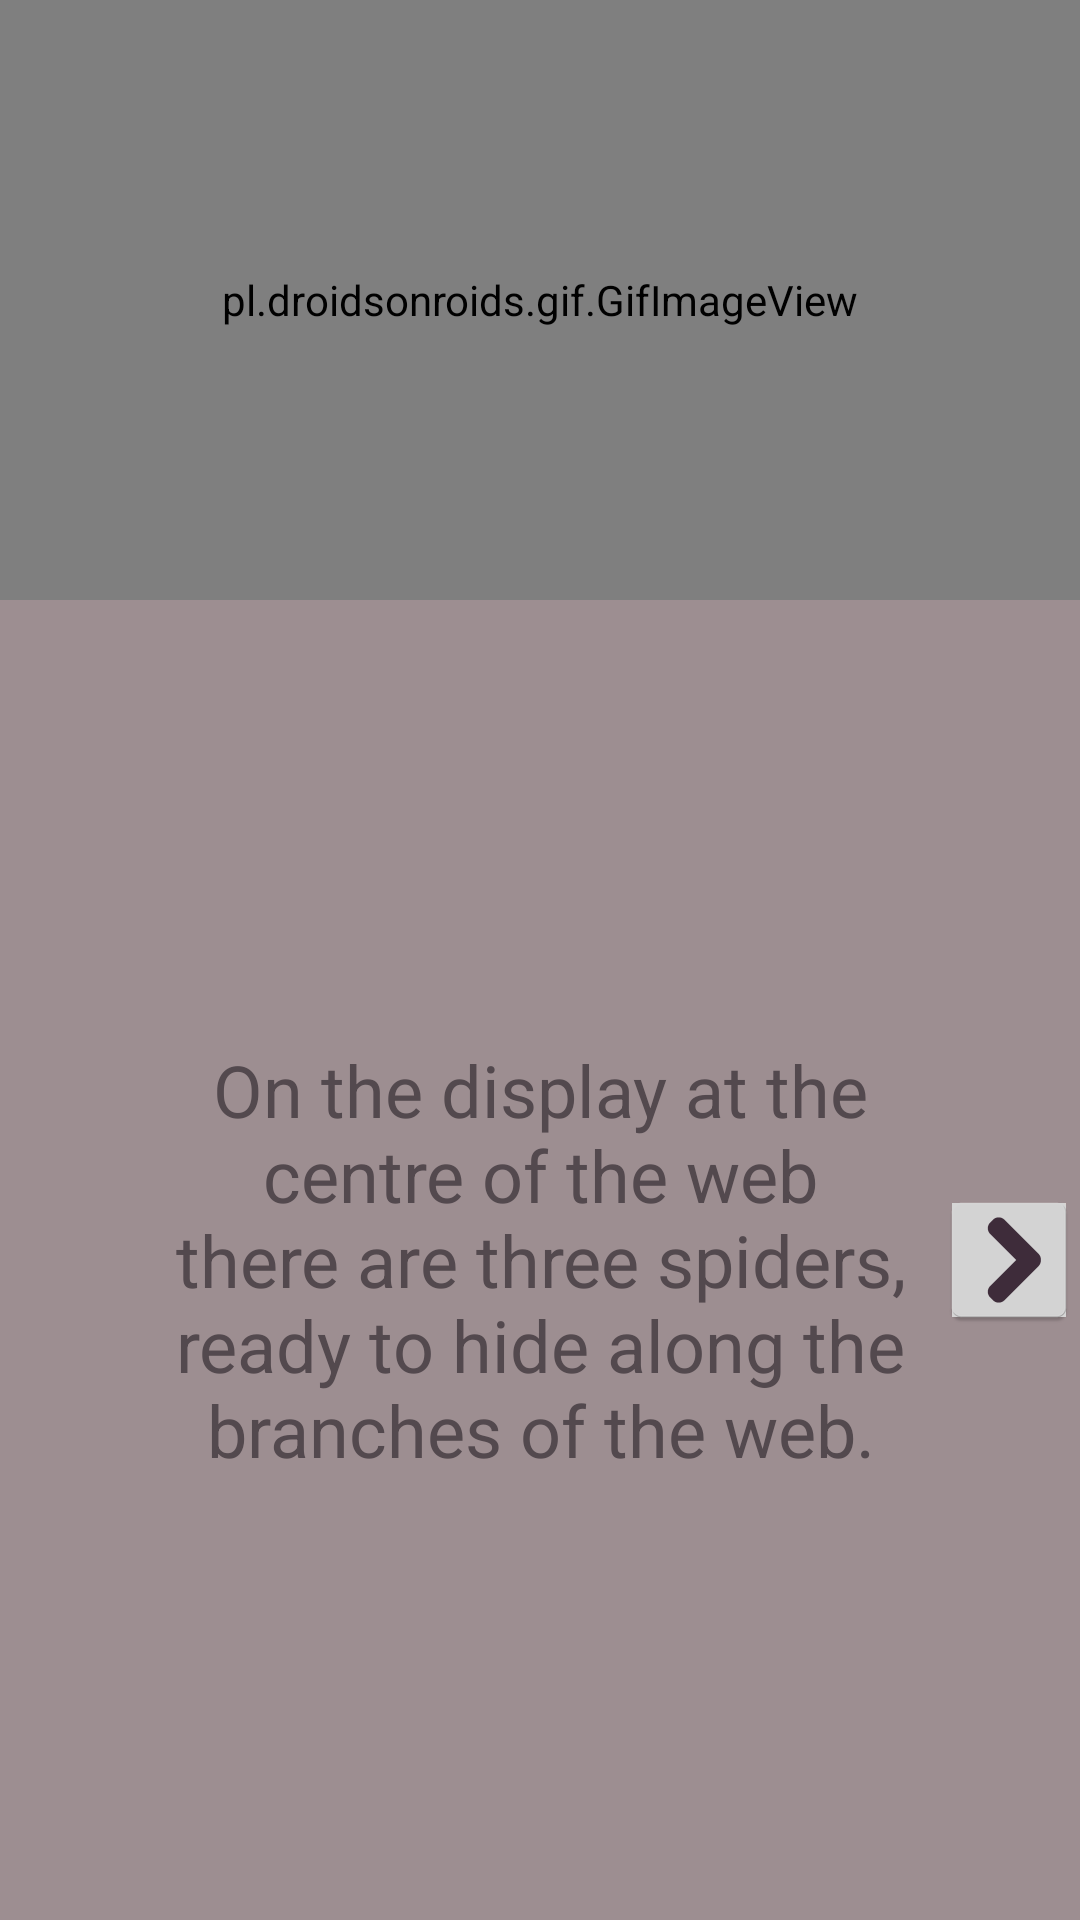

Screen size 1080px×1920px. Icon name, then its box in pixels as (x1, y1, x2, y2):
avanti: (952, 1203, 1066, 1319)
